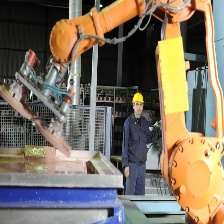helmet: (132, 92, 144, 105)
no-vest: (125, 118, 150, 168)
person: (121, 92, 154, 196)
